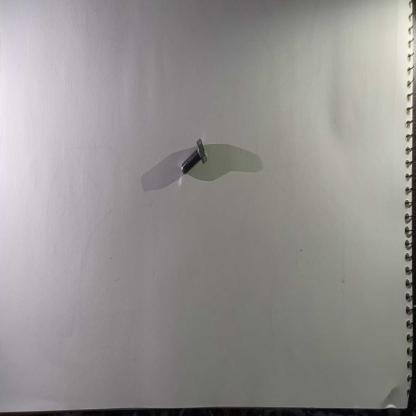Bolts: (179, 134, 210, 182)
